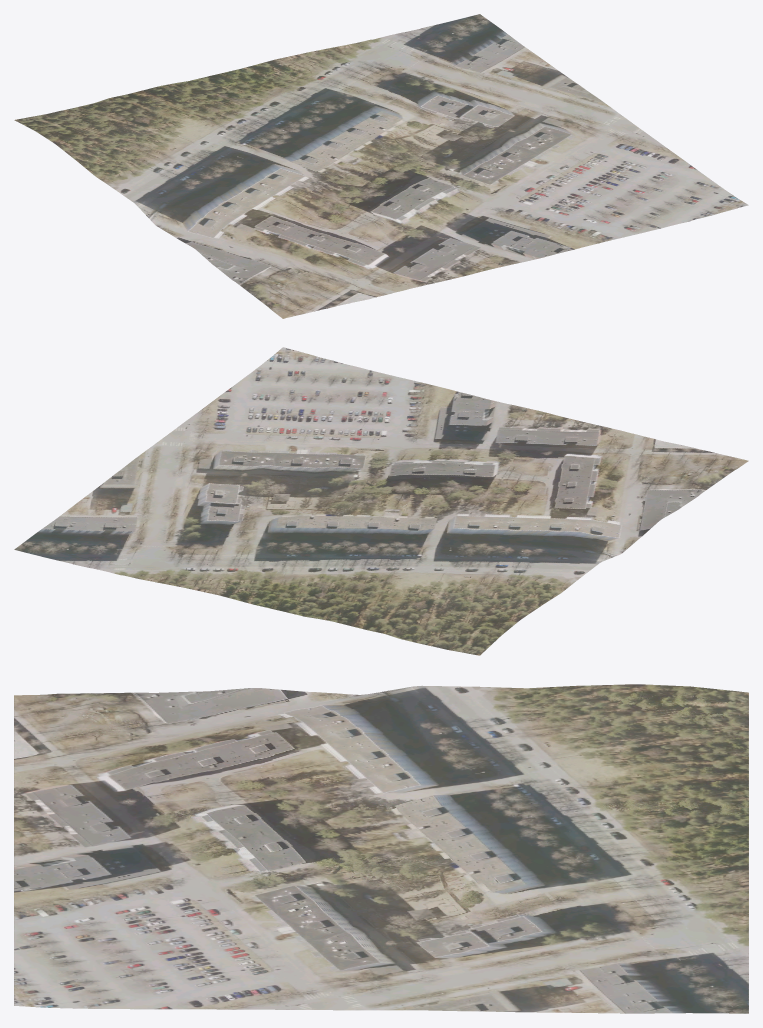
The model's file is CM_Terrain_24491687_6815084.fbx.
3 views of the same model, one above another, from view 1: azimuth 30°, elevation 25°; view 2: azimuth 150°, elevation 25°; view 3: azimuth 270°, elevation 25° (orthographic). The views are drawn at different scales.
Visible parts, largest first — view 1: CM_Terrain_24491687_6815084_LOD0; view 2: CM_Terrain_24491687_6815084_LOD0; view 3: CM_Terrain_24491687_6815084_LOD0.
Part boxes in pixels (box(x1,y1,x2,y2)): CM_Terrain_24491687_6815084_LOD0: box(14, 14, 748, 318); CM_Terrain_24491687_6815084_LOD0: box(14, 347, 748, 655); CM_Terrain_24491687_6815084_LOD0: box(14, 684, 748, 1013).
Size of what is drawn, in the model's own units: 205 by 5.86 by 205.
